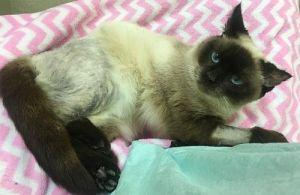siamese: (185, 3, 298, 116)
